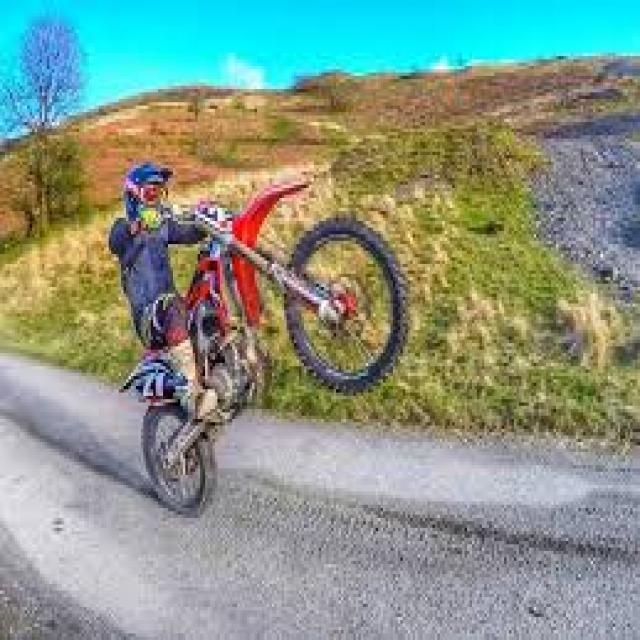Wheeling: (102, 149, 415, 518)
